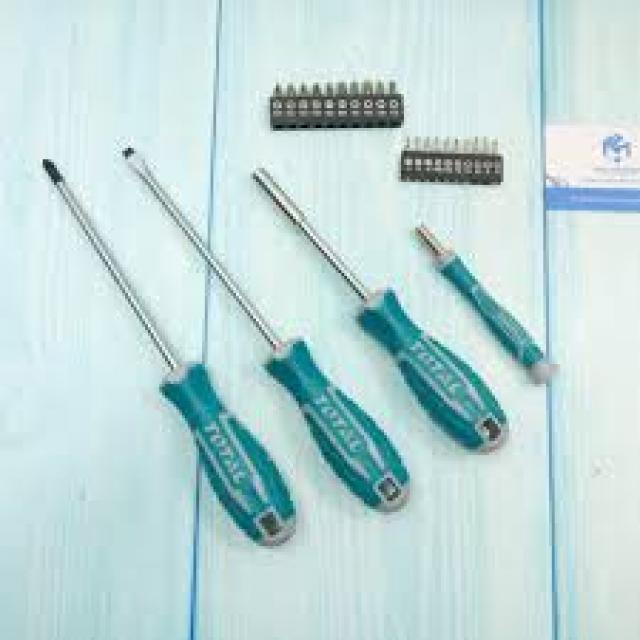screwdriver: (120, 144, 412, 516), (38, 154, 300, 550), (253, 162, 512, 455)
